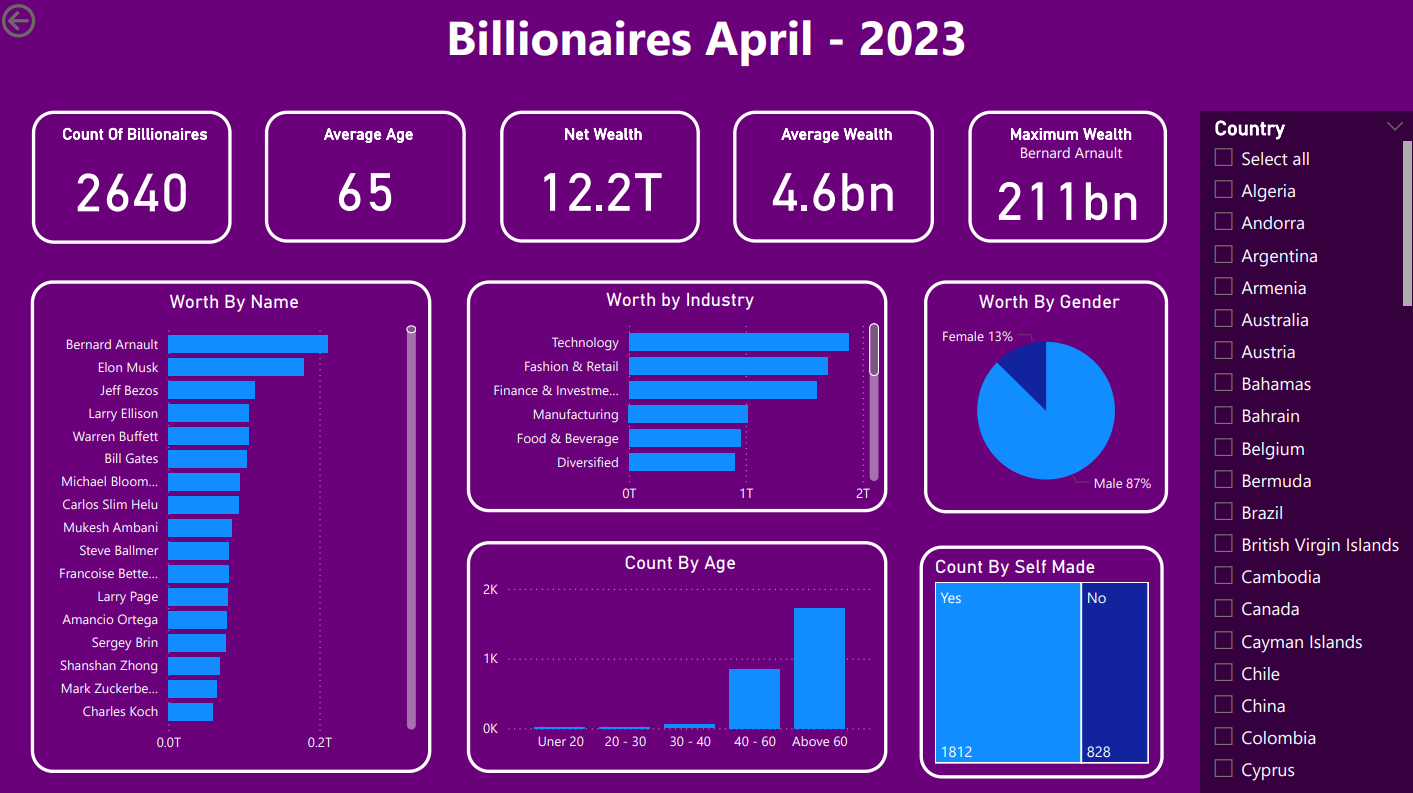

What the dashboard file says about the page in this screenshot:
{"tool":"powerbi","page":{"name":"Page 1","canvas":[1280,720],"ordinal":0},"visuals":[{"type":"textbox","box":[0,0,1280.5,81.3],"z":0},{"type":"card","title":"Count Of Billionaires","fields":{"Values":["output.count"]},"box":[31.8,100.9,180,120],"z":1000},{"type":"card","title":"Maximum Wealth","fields":{"Values":["output.worth"]},"box":[875.5,101.4,179.9,119],"z":2000},{"type":"actionButton","box":[0,0,100,40],"z":3000},{"type":"card","title":"Net Wealth","fields":{"Values":["output.worth"]},"box":[453.7,101.4,179.9,119],"z":4000},{"type":"card","title":"Average Wealth","fields":{"Values":["output.worth"]},"box":[663.9,101.4,181.3,119],"z":5000},{"type":"slicer","fields":{"Values":["output.home_country"]},"box":[1085.2,100.6,195.5,619.1],"z":6000},{"type":"pieChart","title":"Worth By Gender","fields":{"Category":["output.gender"],"Y":["output.worth"]},"box":[835.9,253.6,220,210],"z":8000},{"type":"clusteredBarChart","title":"Worth by Industry","fields":{"Category":["output.industry"],"Y":["output.worth"]},"box":[423.6,253.6,379.7,209.7],"z":9000},{"type":"treemap","title":"Count By Self Made","fields":{"Values":["output.count"],"Group":["output.self_made_text"]},"box":[832.5,493.1,220,210],"z":10000},{"type":"clusteredColumnChart","title":"Count By Age","fields":{"Category":["output.age_category"],"Y":["output.count"]},"box":[423.6,488.8,379.7,209.7],"z":11000},{"type":"clusteredBarChart","title":"Worth By Name","fields":{"Category":["output.name"],"Y":["output.worth"]},"box":[31.2,253.6,361.3,444.8],"z":12000},{"type":"card","title":"Average Age","fields":{"Values":["output.age"]},"box":[242.1,101.4,181.3,119],"z":13000}]}

Visuals, with their boxes in screenshot pixels (x1, y1, x2, y2):
textbox: (x1=4, y1=4, x2=1398, y2=92)
"Count Of Billionaires" card: (x1=38, y1=114, x2=234, y2=244)
"Maximum Wealth" card: (x1=957, y1=114, x2=1153, y2=244)
actionButton: (x1=4, y1=4, x2=113, y2=47)
"Net Wealth" card: (x1=498, y1=114, x2=693, y2=244)
"Average Wealth" card: (x1=726, y1=114, x2=924, y2=244)
slicer - output.home_country: (x1=1185, y1=113, x2=1398, y2=787)
"Worth By Gender" pieChart: (x1=914, y1=280, x2=1153, y2=508)
"Worth by Industry" clusteredBarChart: (x1=465, y1=280, x2=878, y2=508)
"Count By Self Made" treemap: (x1=910, y1=540, x2=1149, y2=769)
"Count By Age" clusteredColumnChart: (x1=465, y1=536, x2=878, y2=764)
"Worth By Name" clusteredBarChart: (x1=38, y1=280, x2=431, y2=764)
"Average Age" card: (x1=267, y1=114, x2=465, y2=244)
